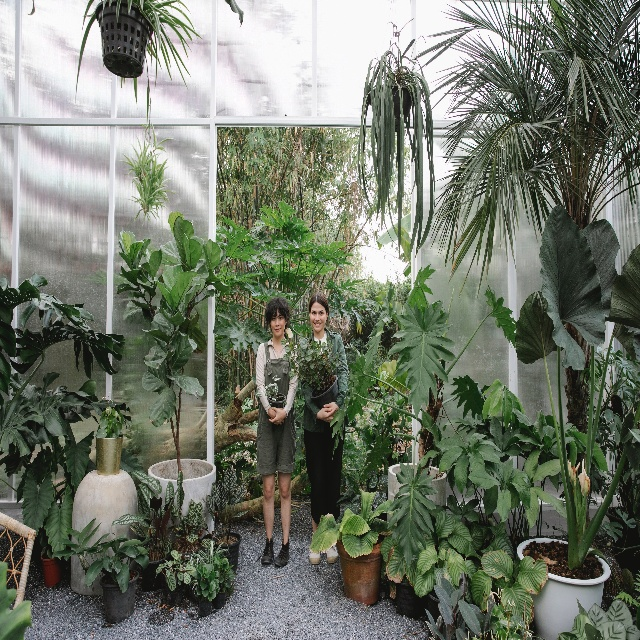Sin_guantes: (268, 406, 286, 425), (317, 407, 337, 423), (323, 402, 339, 416)
